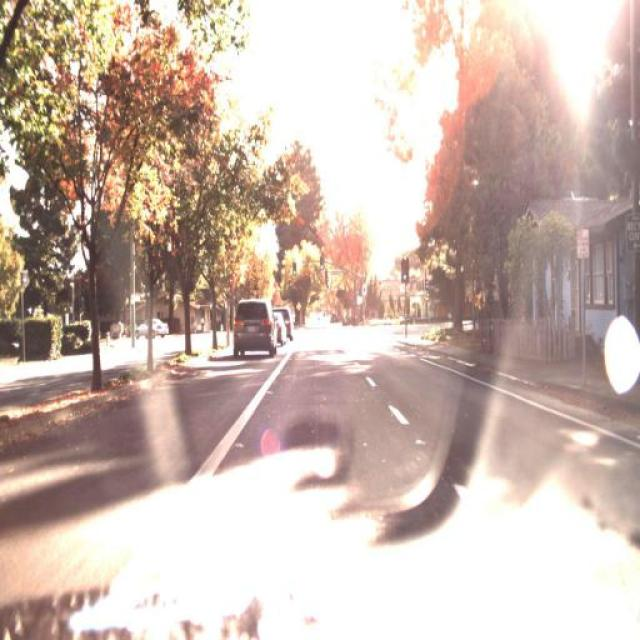car: (230, 292, 276, 356), (127, 314, 169, 342), (132, 317, 169, 342), (268, 307, 288, 353), (276, 306, 288, 349), (287, 305, 297, 343)
trafficLight-Green: (400, 258, 410, 286)
trafficLight-GreenLeft: (317, 250, 327, 276), (400, 261, 410, 285), (291, 259, 300, 282), (316, 256, 326, 276)
trafficLight-Red: (291, 261, 301, 279)
